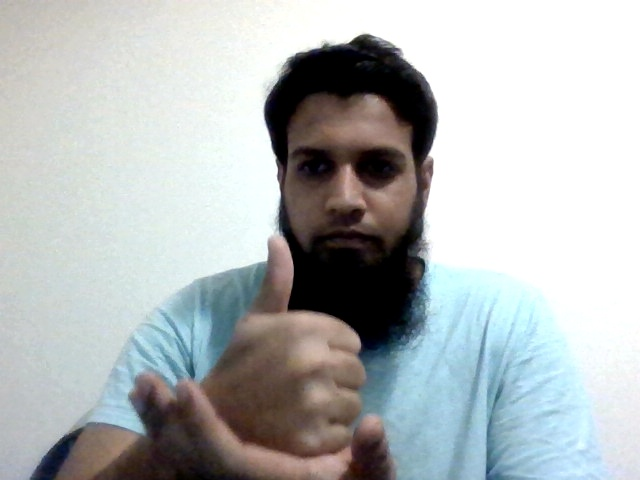help: (131, 230, 401, 478)
